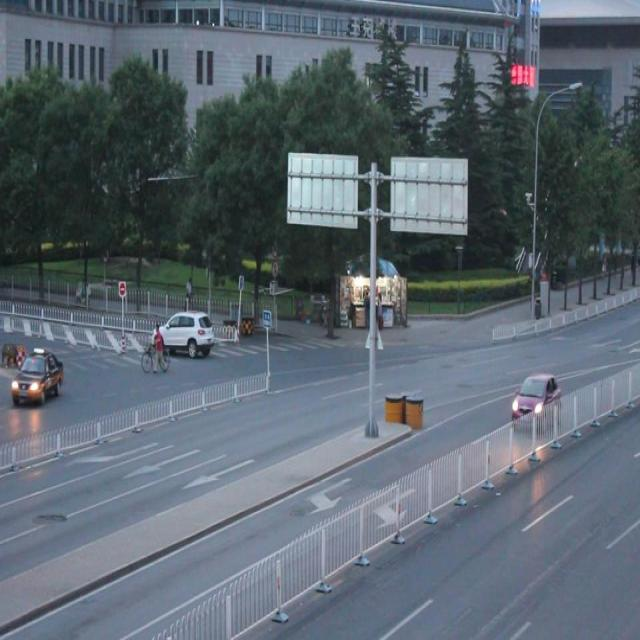car: (8, 344, 67, 405), (508, 366, 560, 429), (156, 306, 215, 355)
